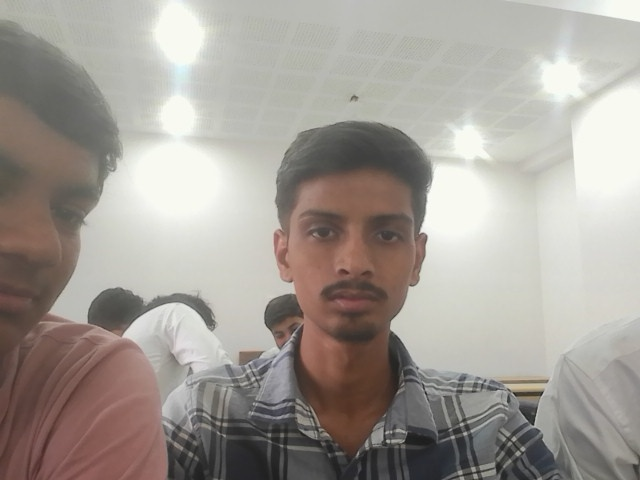fan_on: (340, 94, 370, 154)
light_on: (145, 3, 210, 134), (531, 52, 585, 103), (453, 125, 486, 156), (629, 10, 640, 25)
person: (0, 22, 167, 478), (257, 102, 431, 453), (533, 306, 639, 479), (124, 295, 232, 387), (96, 281, 156, 334)
